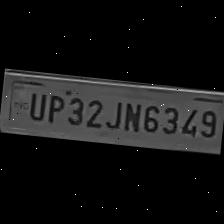2: (81, 94, 105, 130)
3: (158, 102, 181, 138), (62, 92, 84, 128)
4: (177, 103, 200, 139)
6: (138, 100, 160, 136)
9: (194, 106, 218, 140)
J: (102, 96, 124, 132)
N: (120, 98, 141, 134)
P: (42, 90, 64, 126)
U: (23, 88, 46, 122)
